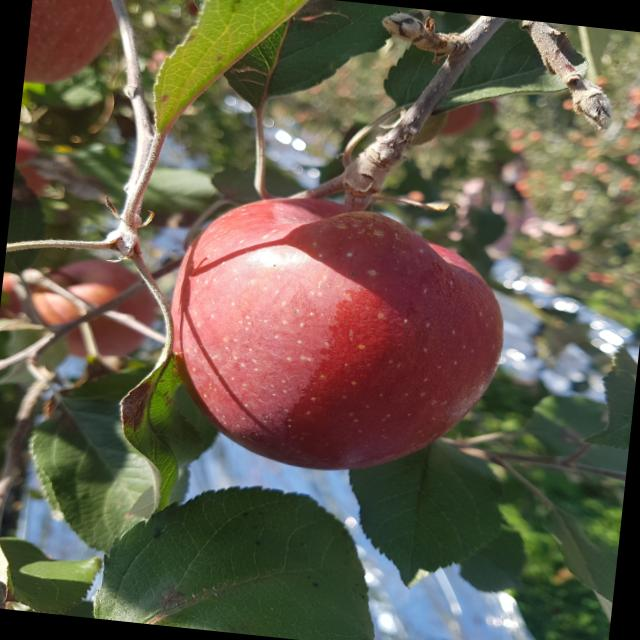fresh: (146, 174, 522, 492)
